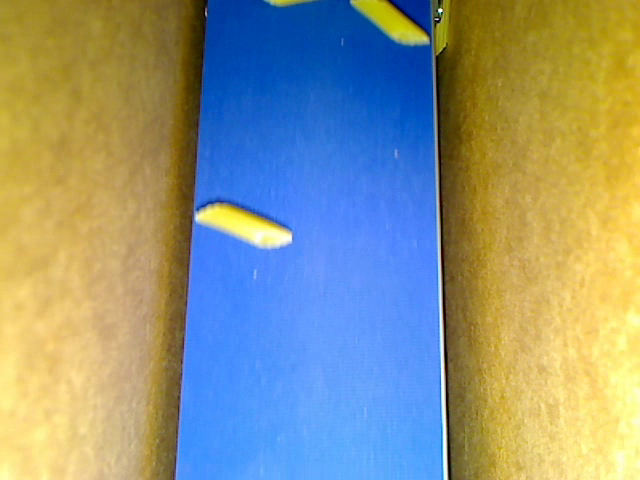penne: (190, 194, 289, 254), (351, 1, 432, 58), (432, 1, 452, 62)
